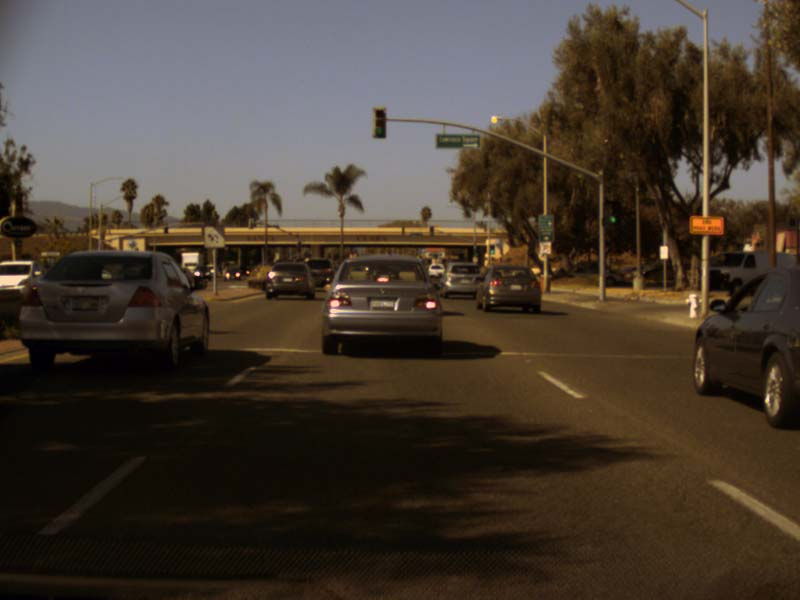Green: (372, 106, 386, 138), (607, 203, 620, 225), (489, 245, 494, 253)
